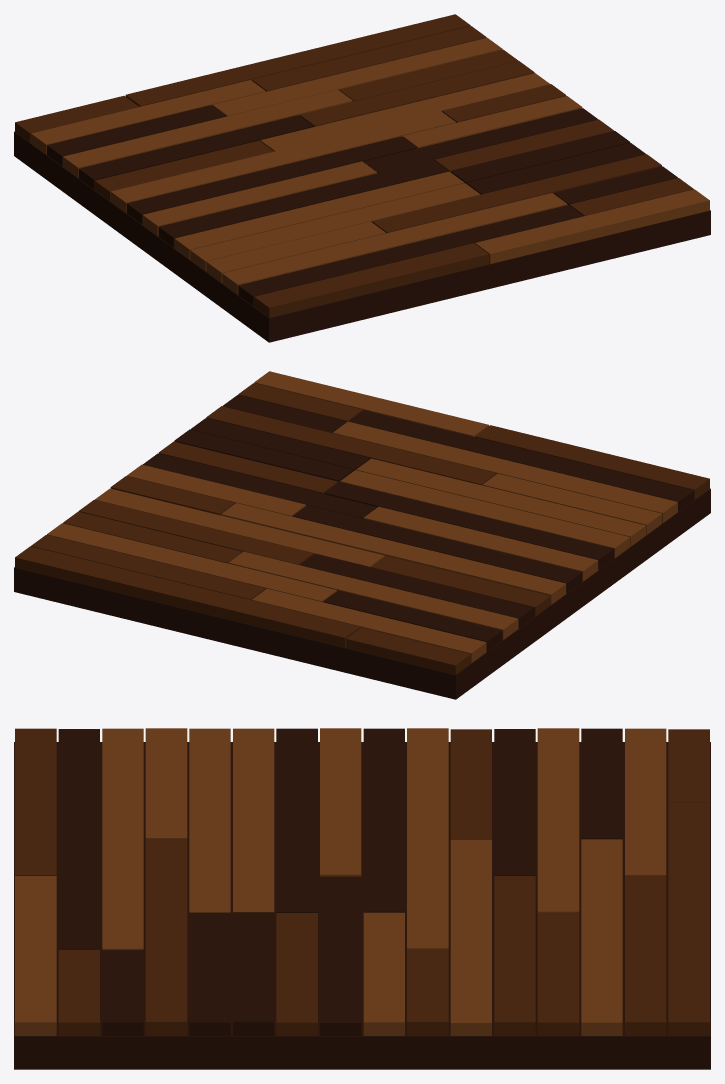
The model's file is SM_Bld_Floor_Wood_4x4.glb.
The picture shows the model from 3 angles, top to bottom: view 1: azimuth 30°, elevation 25°; view 2: azimuth 150°, elevation 25°; view 3: azimuth 270°, elevation 25°; orthographic projection. The views are drawn at different scales.
Visible parts, largest first — view 1: SM_Bld_Floor_Wood_4x4; view 2: SM_Bld_Floor_Wood_4x4; view 3: SM_Bld_Floor_Wood_4x4.
Part boxes in pixels (bbox=[...]): SM_Bld_Floor_Wood_4x4: bbox=[14, 14, 710, 342]; SM_Bld_Floor_Wood_4x4: bbox=[14, 371, 710, 699]; SM_Bld_Floor_Wood_4x4: bbox=[14, 728, 710, 1069].
Bounding box in the file's own units: 4 × 0.3 × 4.
1 material, 1 textured.
